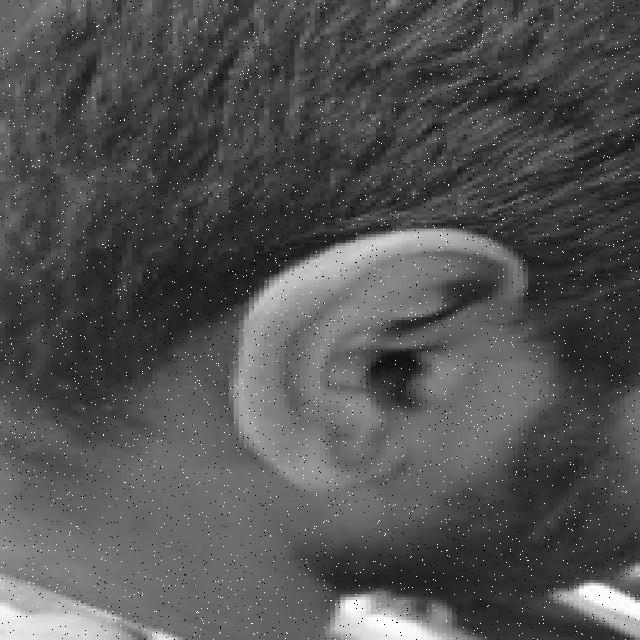ear: (239, 231, 513, 486)
